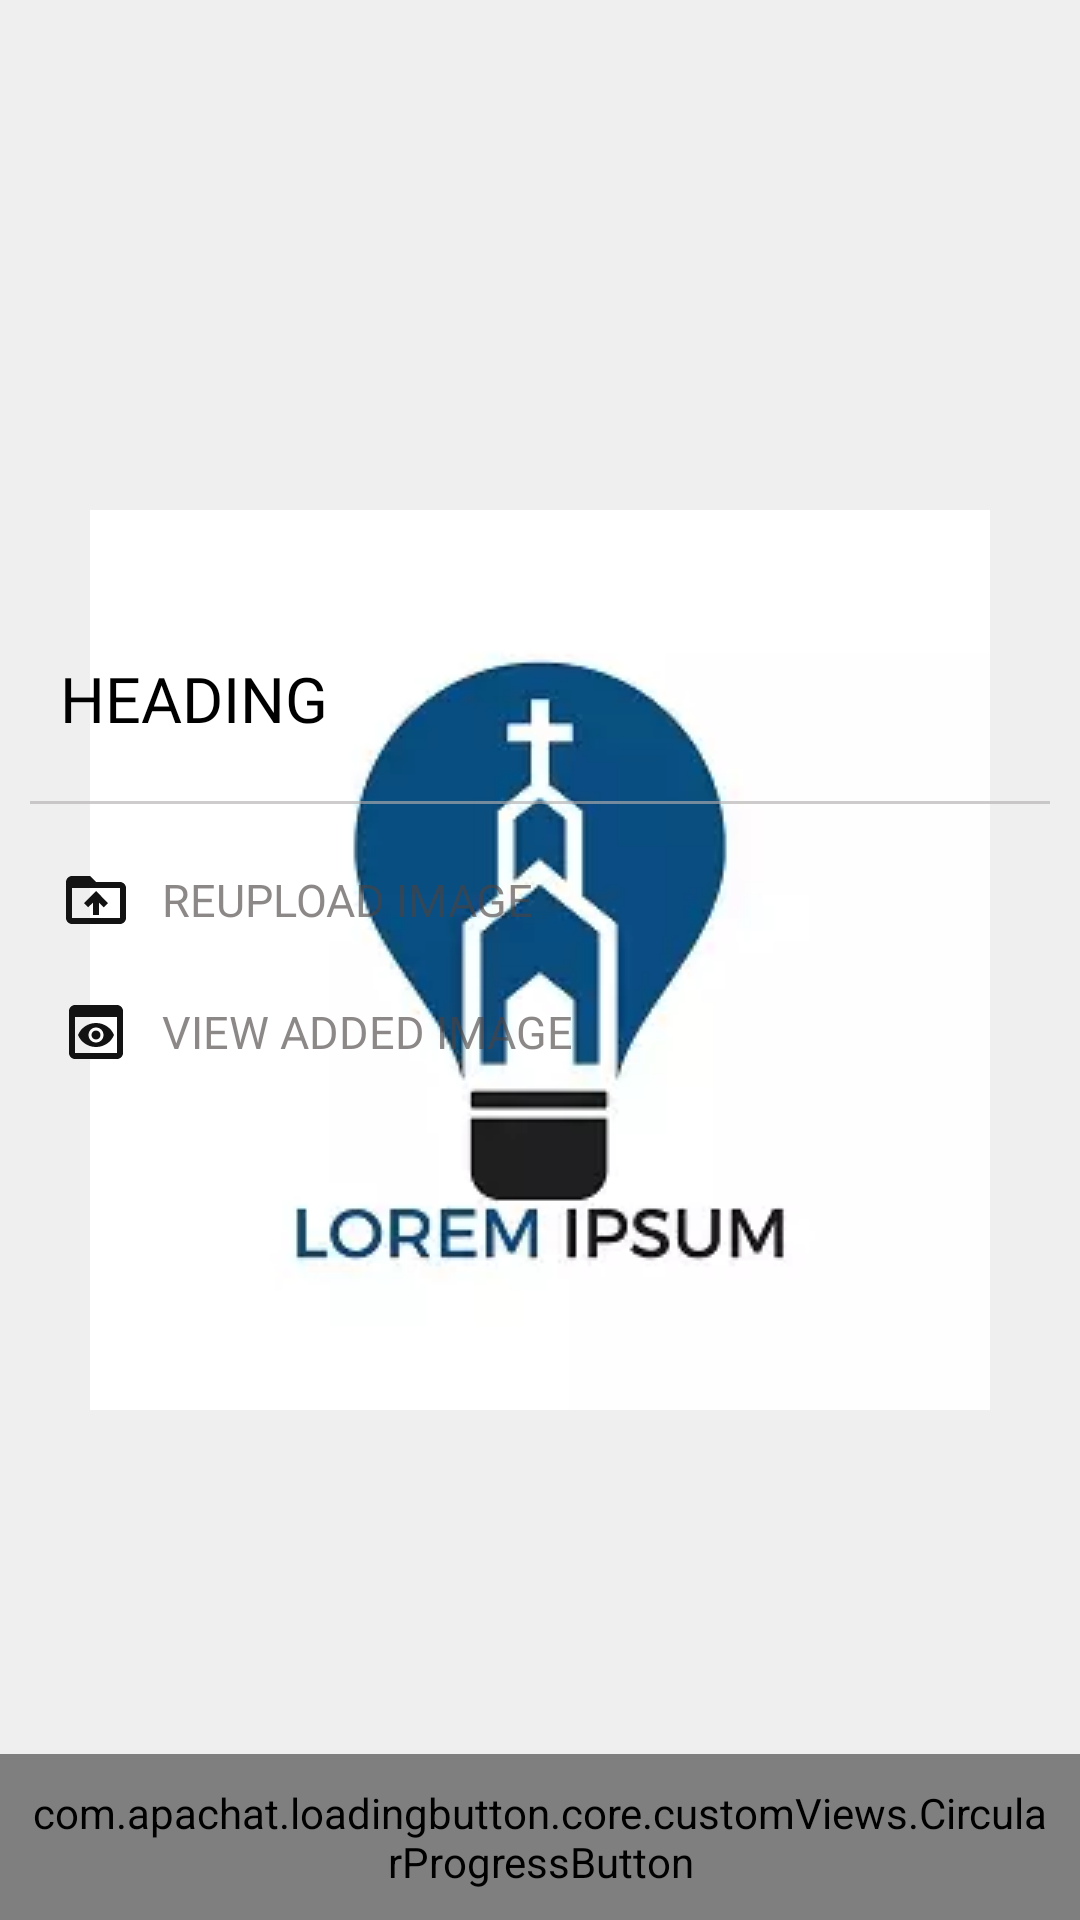

Icons on this 1080*1920 Android screen, each with the point to tap as (x,y):
drive folder upload: (96,900)
